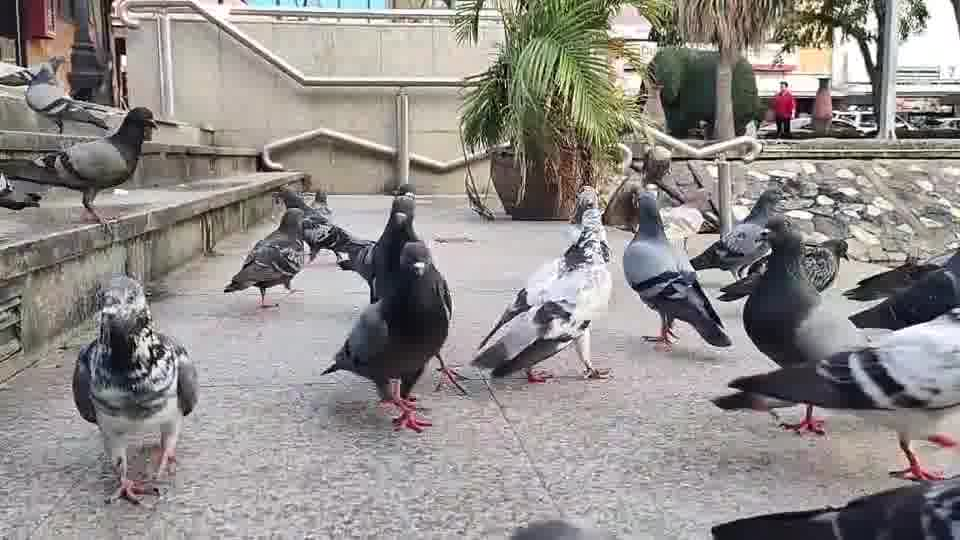Pigeon: (711, 304, 959, 482), (318, 195, 464, 433), (71, 271, 199, 505), (714, 227, 853, 436), (471, 185, 613, 383), (0, 105, 160, 235), (621, 190, 734, 352), (709, 475, 959, 539), (841, 246, 959, 331), (689, 187, 786, 281), (222, 206, 306, 307), (22, 54, 126, 135)
